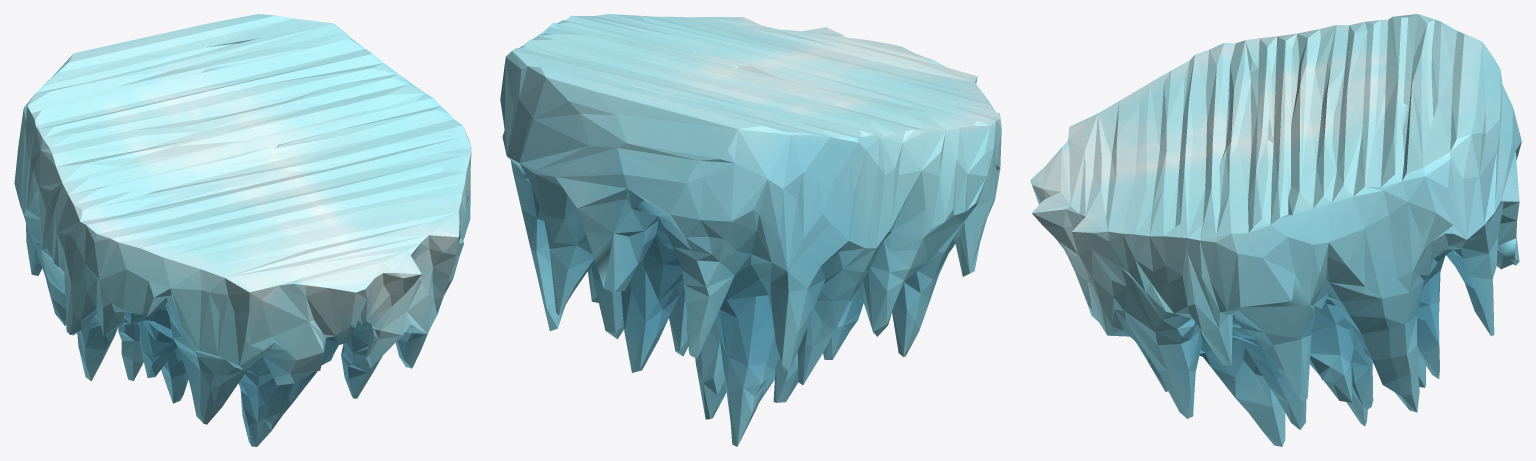
File: platform2.fbx
3 renders of one model, left to right at view 1: azimuth 30°, elevation 25°; view 2: azimuth 150°, elevation 25°; view 3: azimuth 270°, elevation 25°, orthographic. The views are drawn at different scales.
Parts seen in each view (by area): view 1: Mesh_0; view 2: Mesh_0; view 3: Mesh_0.
Part boxes in pixels (bbox=[...]): Mesh_0: bbox=[14, 14, 471, 446]; Mesh_0: bbox=[500, 14, 1001, 446]; Mesh_0: bbox=[1030, 14, 1521, 446].
Size of the model in its own units: 1.19 by 1 by 1.24.
1 material, 1 textured.
